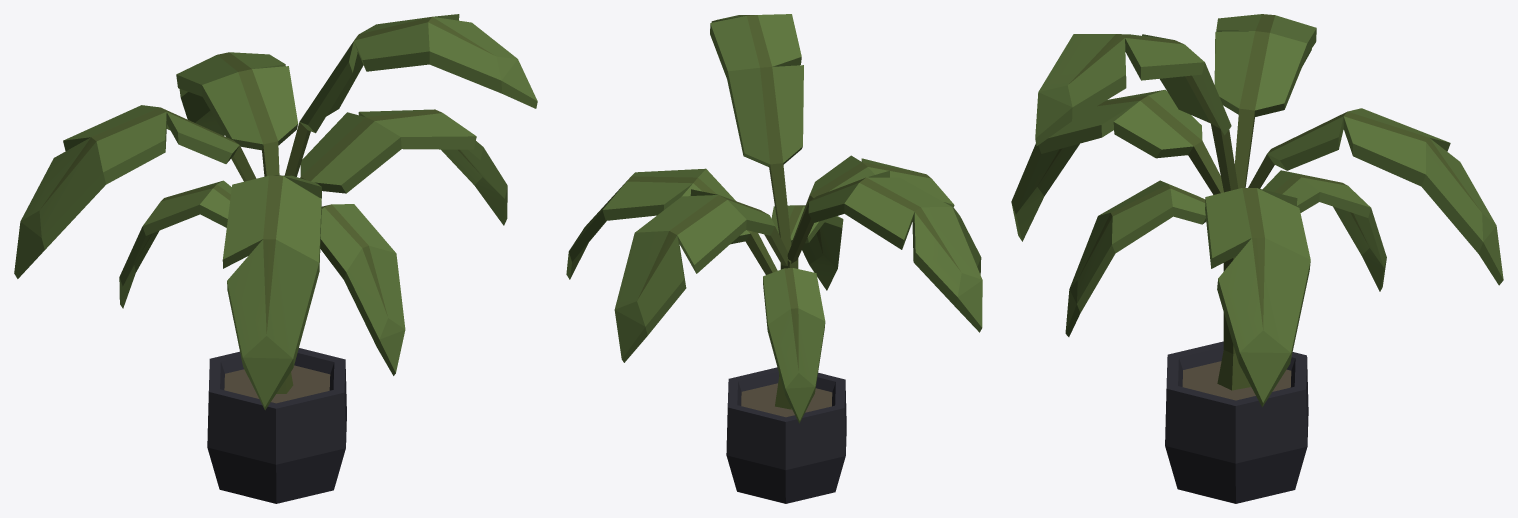
Rendered from SM_Prop_Planter_Plant_01.fbx.
The picture shows the model from 3 angles, left to right: view 1: azimuth 30°, elevation 25°; view 2: azimuth 150°, elevation 25°; view 3: azimuth 270°, elevation 25°; orthographic projection. The views are drawn at different scales.
Parts seen in each view (by area): view 1: SM_Prop_Planter_Plant_01; view 2: SM_Prop_Planter_Plant_01; view 3: SM_Prop_Planter_Plant_01.
Part boxes in pixels (x1,y1,x2,y2): SM_Prop_Planter_Plant_01: (14,14,537,503); SM_Prop_Planter_Plant_01: (566,14,982,503); SM_Prop_Planter_Plant_01: (1011,14,1503,503).
Size of the model in its own units: 1.68 by 1.57 by 1.43.
1 material, 1 textured.
